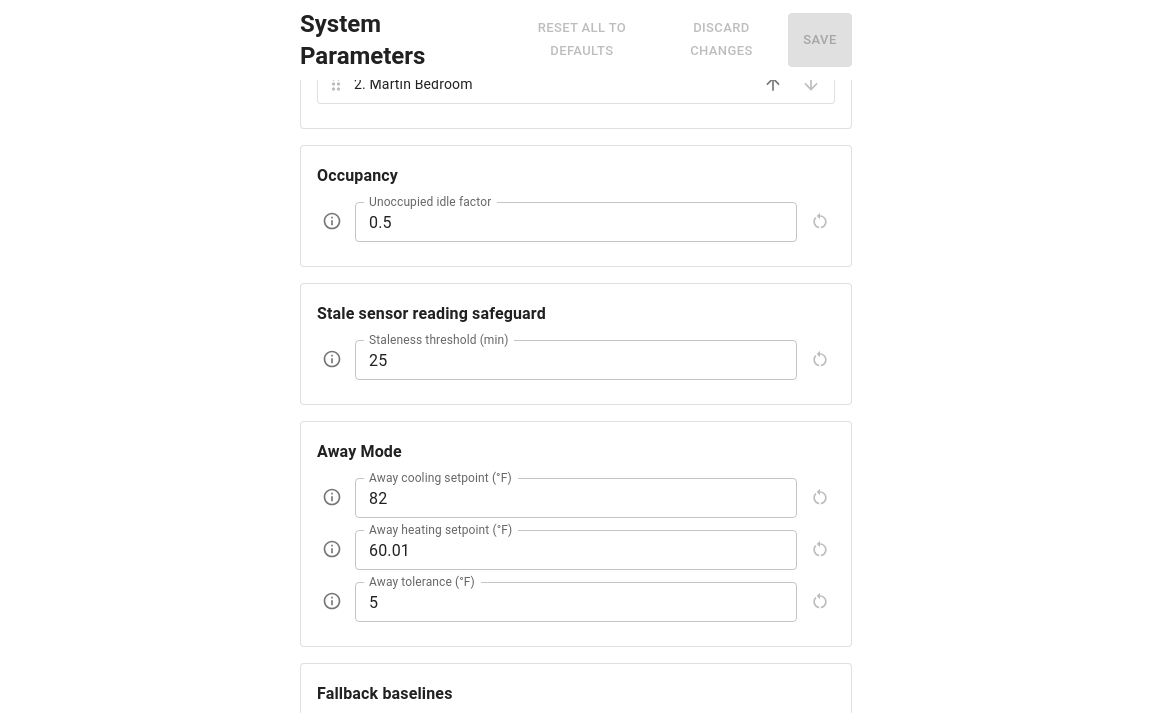
Test case: SystemParametersPage › Save sends only the changed scalar field as a minimal patch
(page scrolled)
Replace the text in the number field labelled "Staleness threshold (min)" with "20" at [576, 360], box [355,340,797,380]
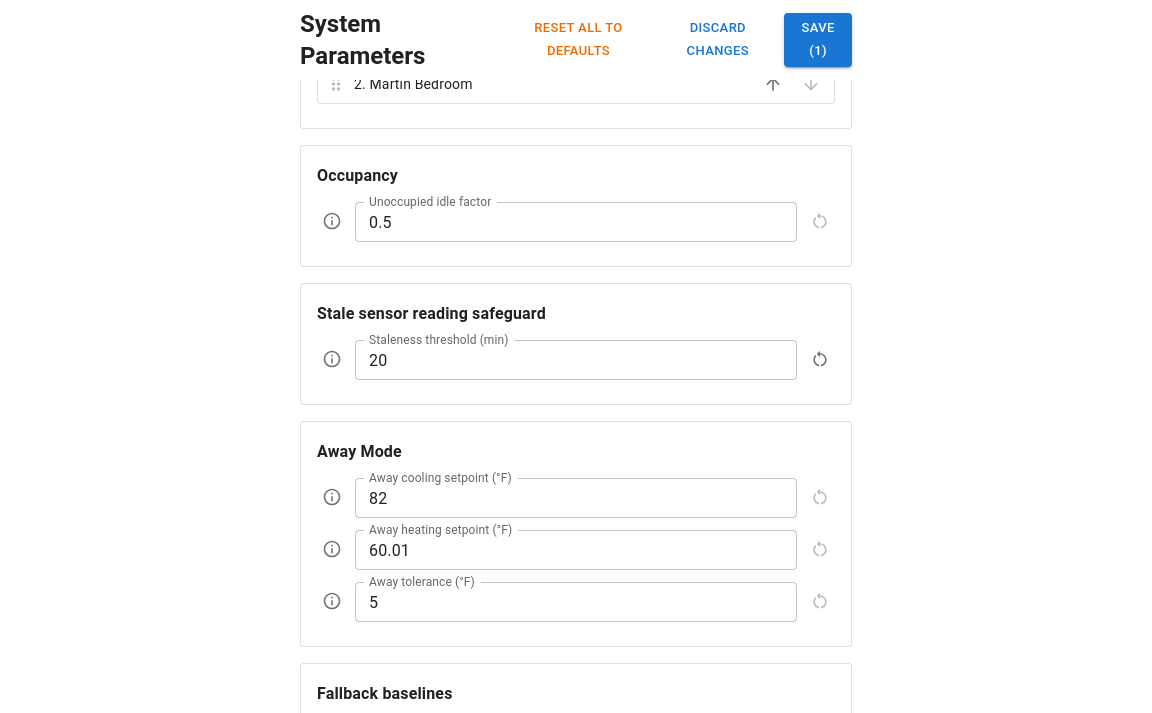
Click the button "Save (1)" at [818, 40], box [784,13,852,67]
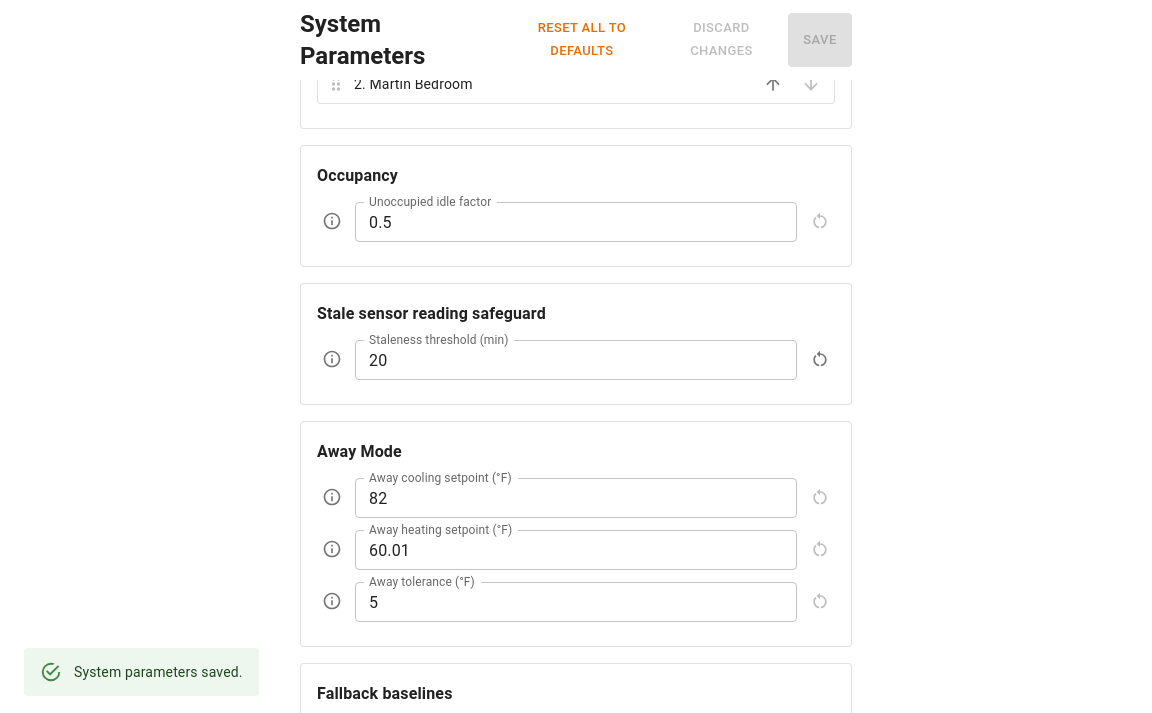
Expected: the button "Save" is disabled, [788,13,852,67]
